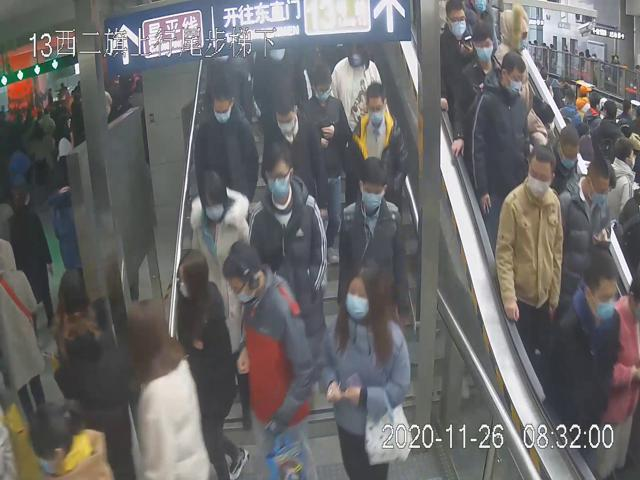person: (223, 237, 314, 480), (315, 260, 413, 479), (174, 249, 248, 479), (248, 144, 331, 349), (495, 143, 566, 357), (187, 168, 253, 394), (336, 154, 411, 335), (469, 50, 530, 253), (193, 80, 259, 206), (259, 94, 326, 213), (347, 79, 411, 203), (448, 23, 503, 161), (298, 60, 351, 184)
